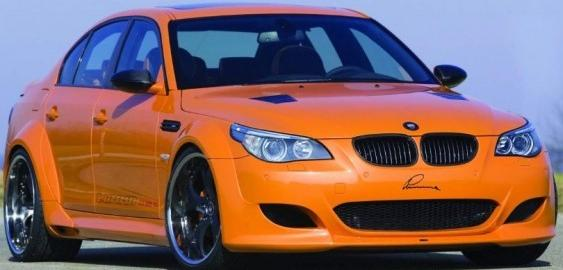front_view: (224, 113, 553, 252)
headlight: (226, 117, 338, 166)
side_glass: (51, 13, 171, 98)
